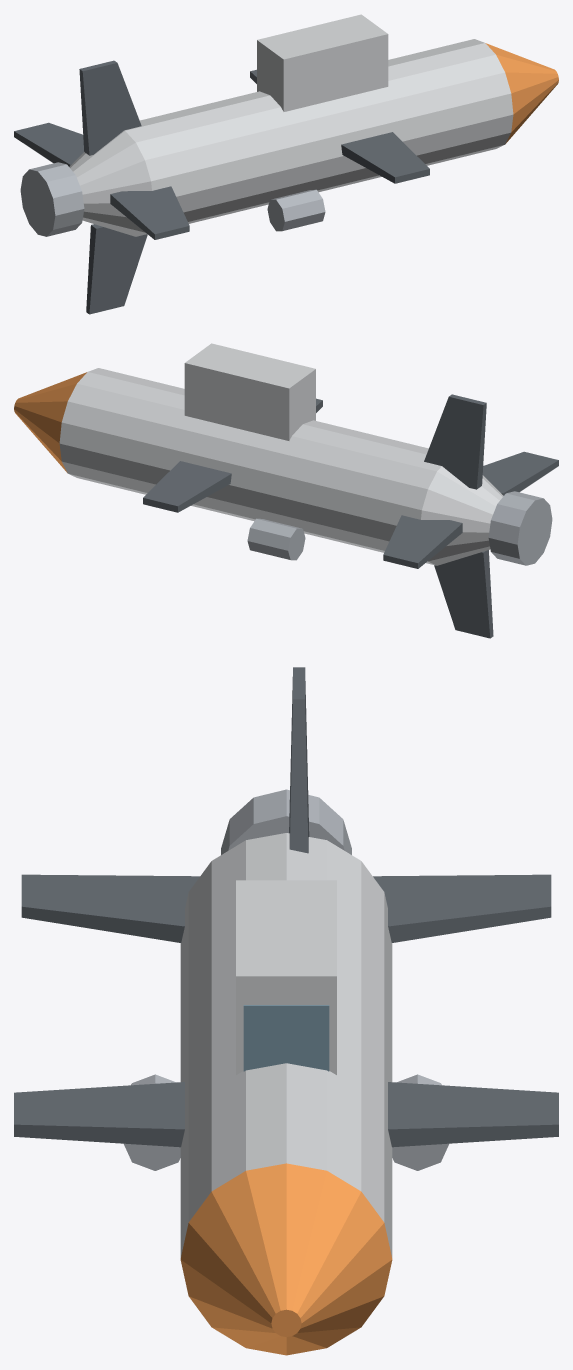
The model's file is submarine.glb.
3 renders of one model, top to bottom at view 1: azimuth 30°, elevation 25°; view 2: azimuth 150°, elevation 25°; view 3: azimuth 270°, elevation 25°, orthographic. The views are drawn at different scales.
Size of the model in its own units: 4.45 by 1.96 by 2.16.
